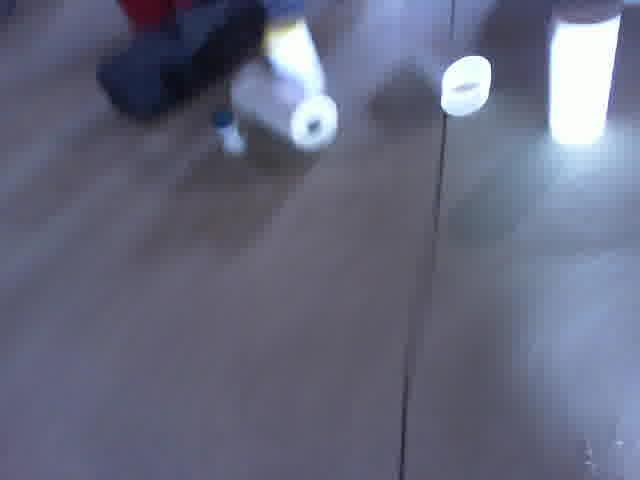coral: (386, 5, 496, 118), (550, 0, 623, 149)
